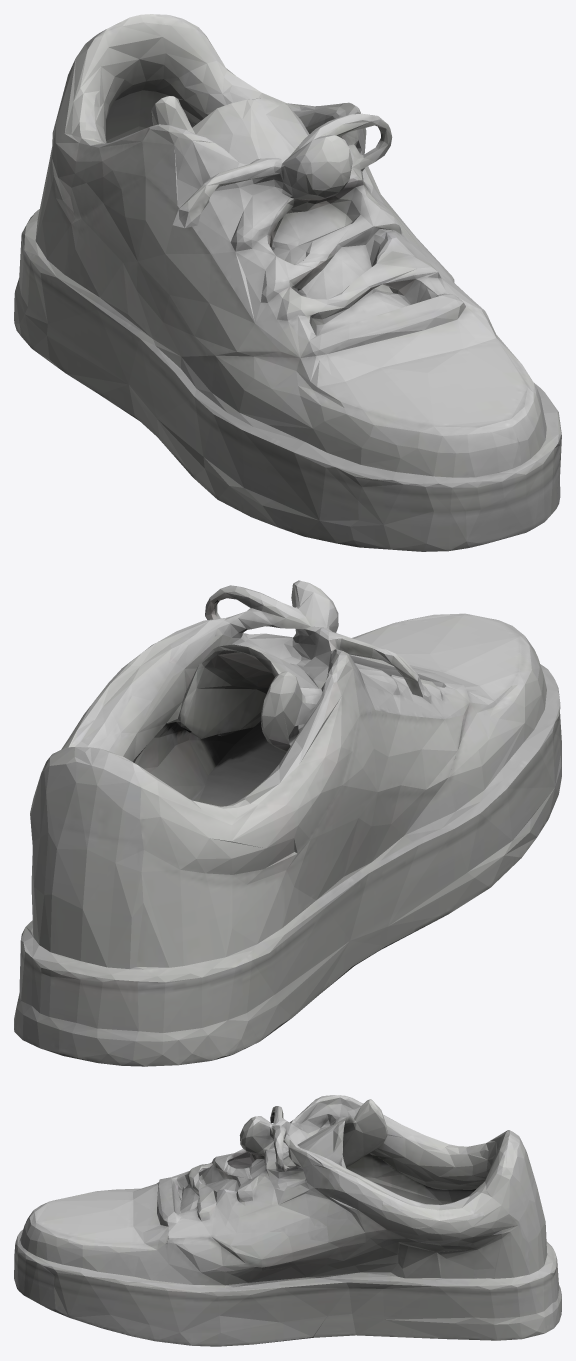
3 views of the same model, one above another, from view 1: azimuth 30°, elevation 25°; view 2: azimuth 150°, elevation 25°; view 3: azimuth 270°, elevation 25° (orthographic). The views are drawn at different scales.
Parts seen in each view (by area): view 1: geometry_0; view 2: geometry_0; view 3: geometry_0.
Boxes of the visible parts, left/top/right/bottom form: geometry_0: left=14, top=14, right=561, bottom=551; geometry_0: left=14, top=580, right=561, bottom=1066; geometry_0: left=14, top=1095, right=561, bottom=1346.
Bounding box in the file's own units: 0.3661 × 0.396 × 0.9986.
1 material, 1 textured.
